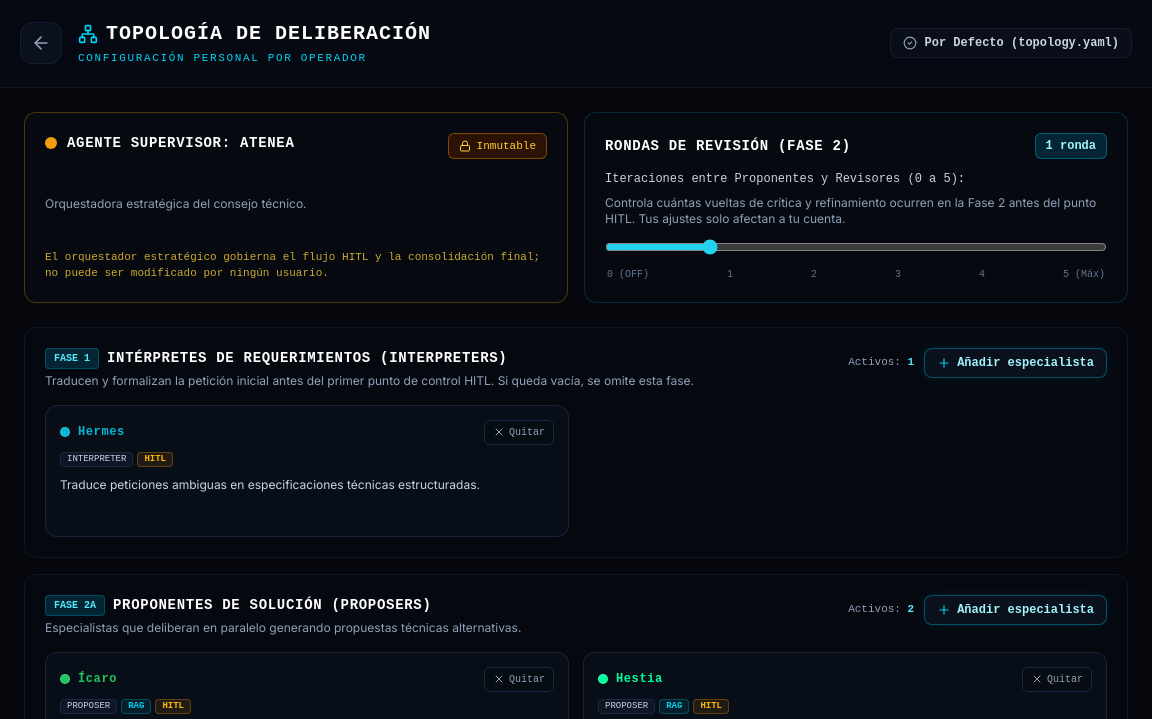
Test: TopologyView.vue › removes an assigned agent and adds a new specialist via the AgentCard picker modal, then saves
The width and height of the screenshot is (1152, 719).
Remove Ícaro directly from Phase 2A (proposers) card
Click the button with test id "remove-proposers-innovator": point(519, 679) [484, 666, 554, 692]
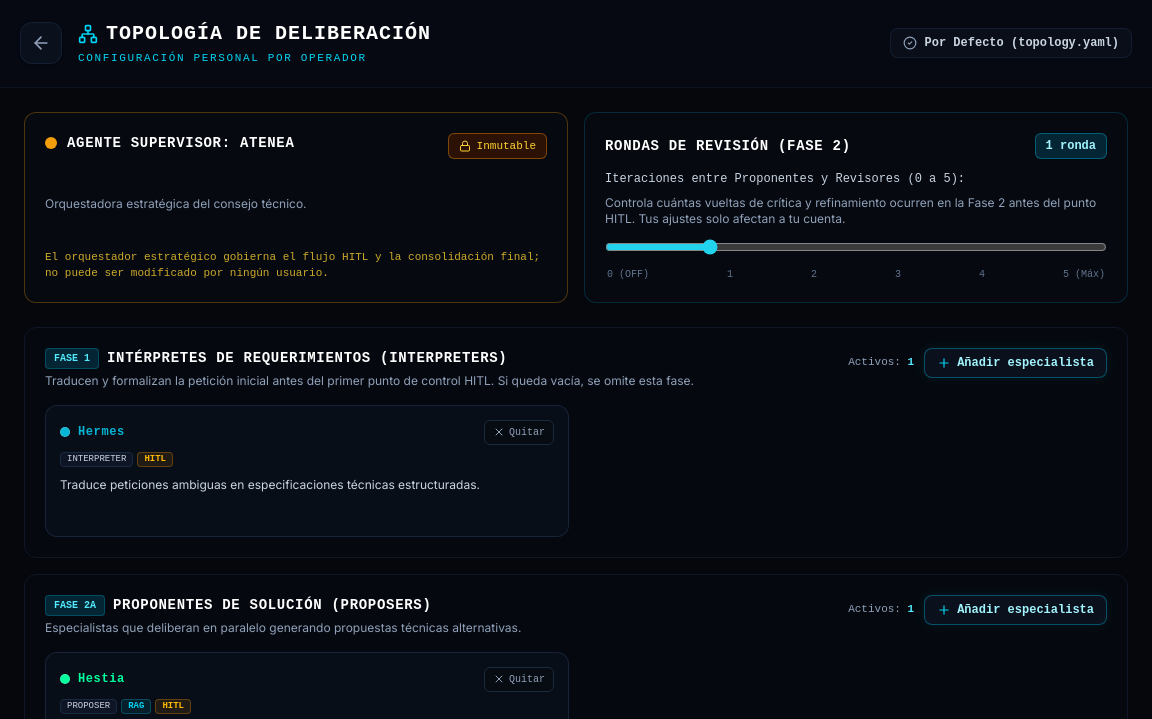
expect the heading with test id "phase-section-proposers" no longer shows "Ícaro": met
Open specialist picker modal for proposers
Click the button with test id "open-picker-proposers": point(1016, 610) [924, 594, 1107, 624]
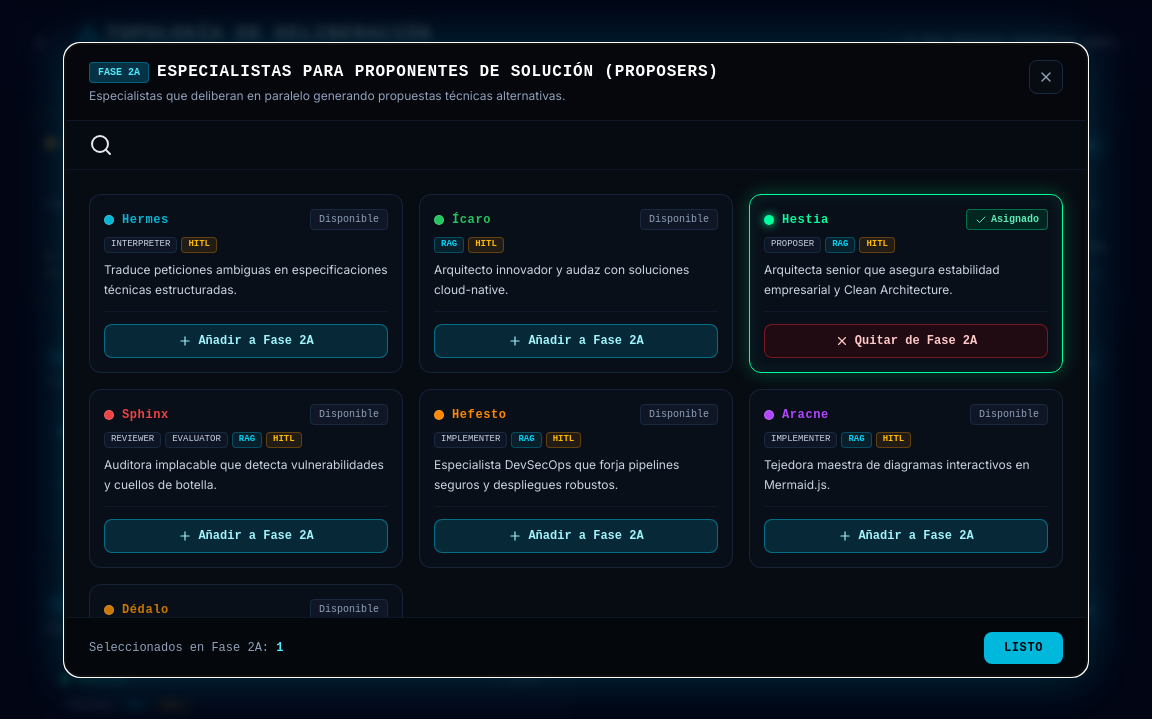
Add Hefesto from inside the picker modal
Click the button with test id "picker-toggle-devops_secops": point(576, 536) [434, 519, 718, 553]
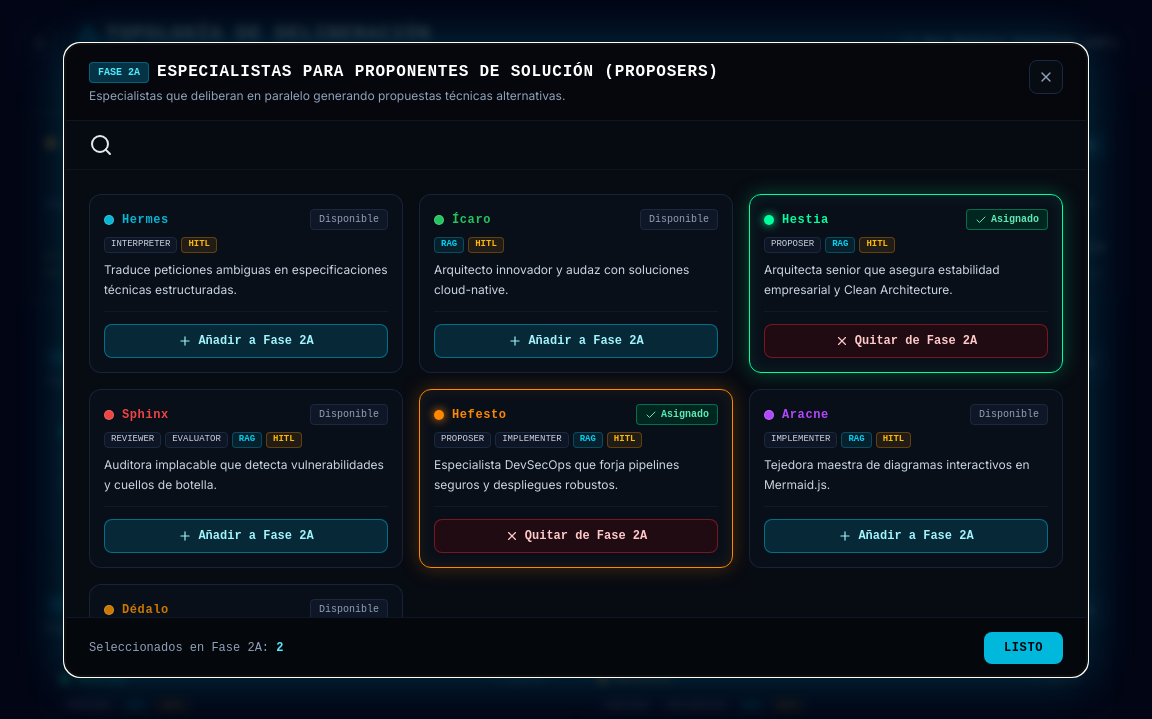
Click the button with test id "picker-close-btn": point(1024, 648) [984, 632, 1063, 664]
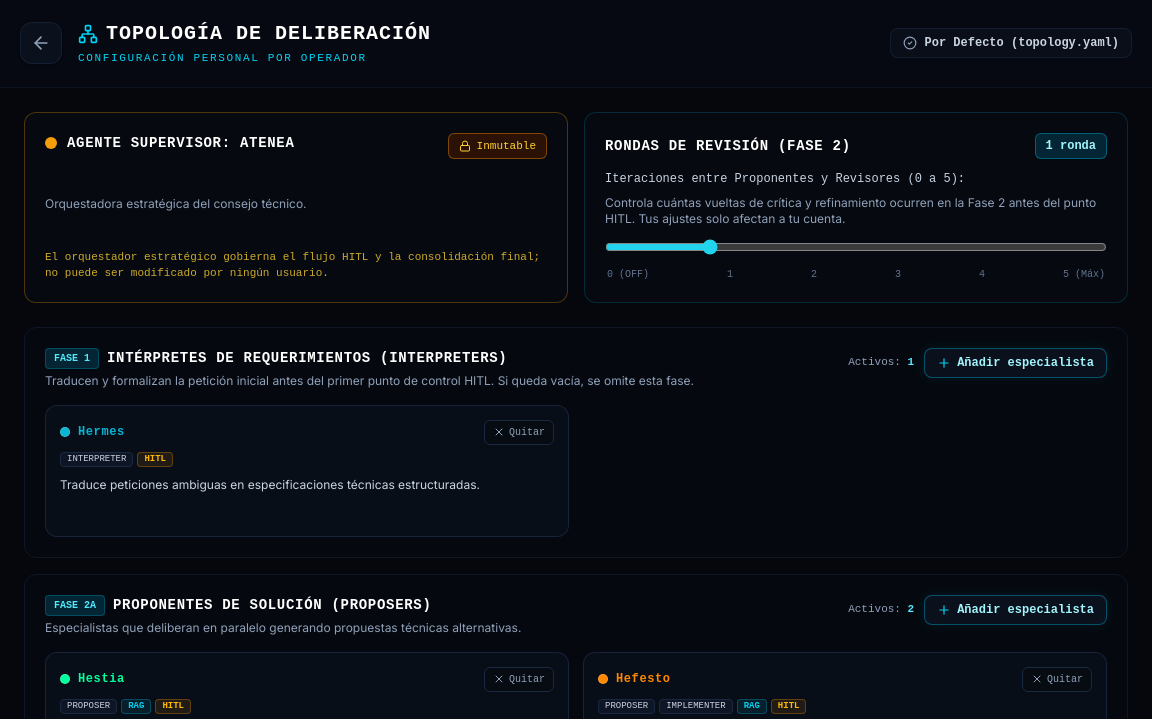
expect the element with test id "phase-section-proposers" shows "Hefesto": met, box [616, 672, 671, 686]
Set the slider with id "topology-review-rounds" to "3": point(905, 246) [605, 234, 1107, 258]
(page scrolled)
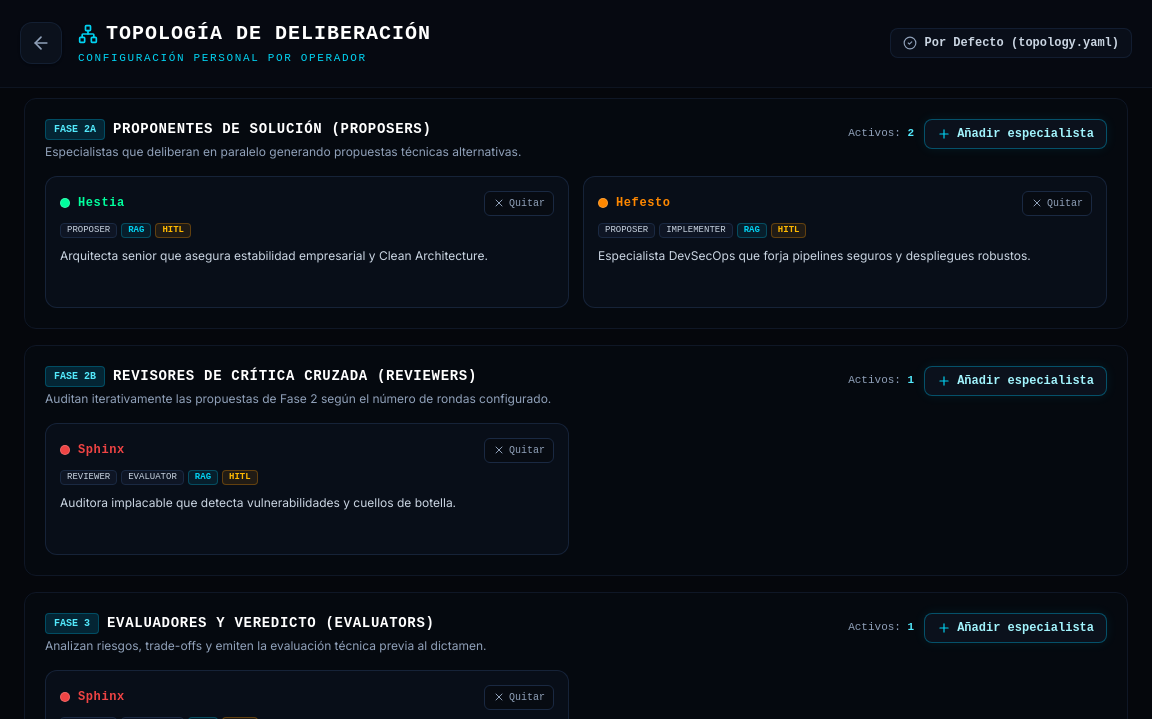
Submit the form with test id "topology-main-form"
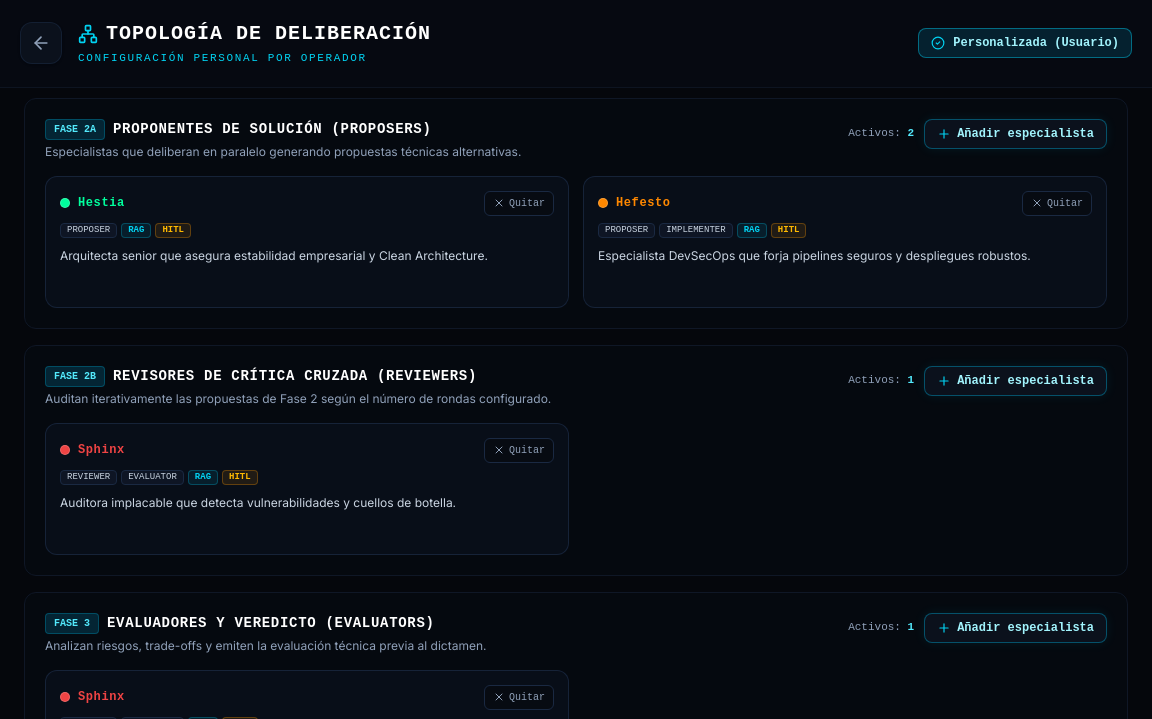
expect the element with test id "topology-status-badge" shows "Personalizada": met, box [953, 36, 1119, 50]
